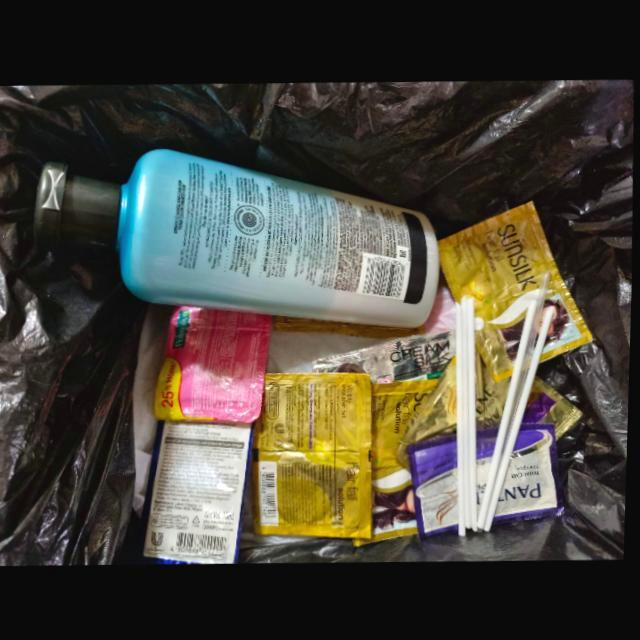plastic_bottle: (35, 148, 441, 327)
plastic_sachet: (439, 200, 597, 382), (257, 373, 374, 538), (409, 422, 567, 540), (137, 420, 257, 564), (357, 380, 442, 546), (156, 306, 275, 423), (314, 329, 457, 383)
